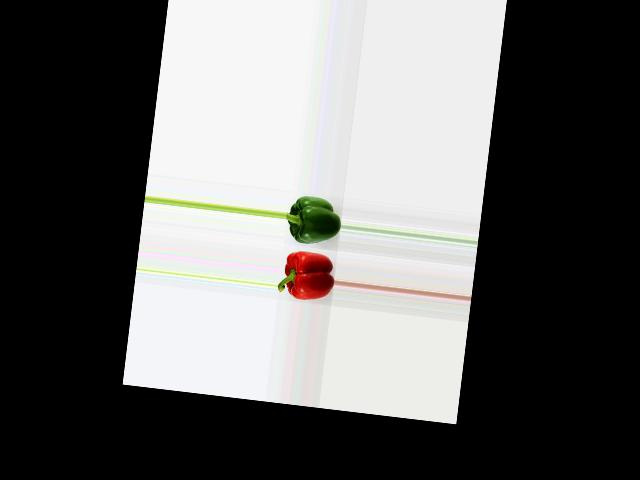bell_pepper: (284, 192, 341, 249)
